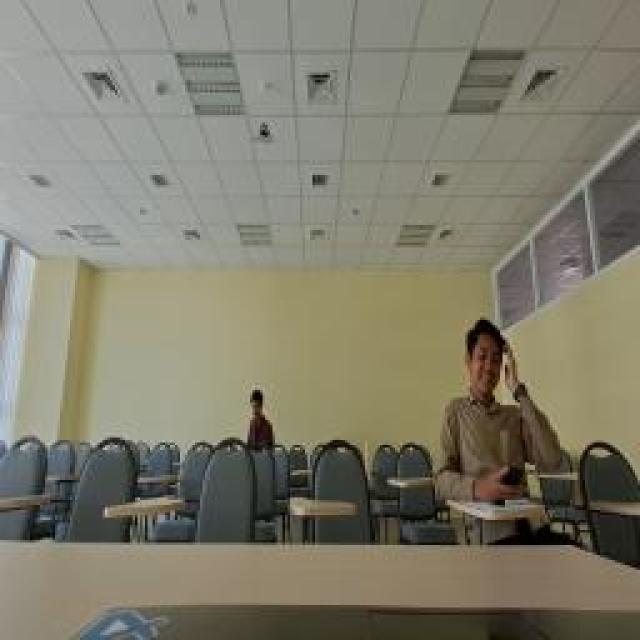phone: (435, 320, 563, 502)
study: (245, 390, 275, 450)
